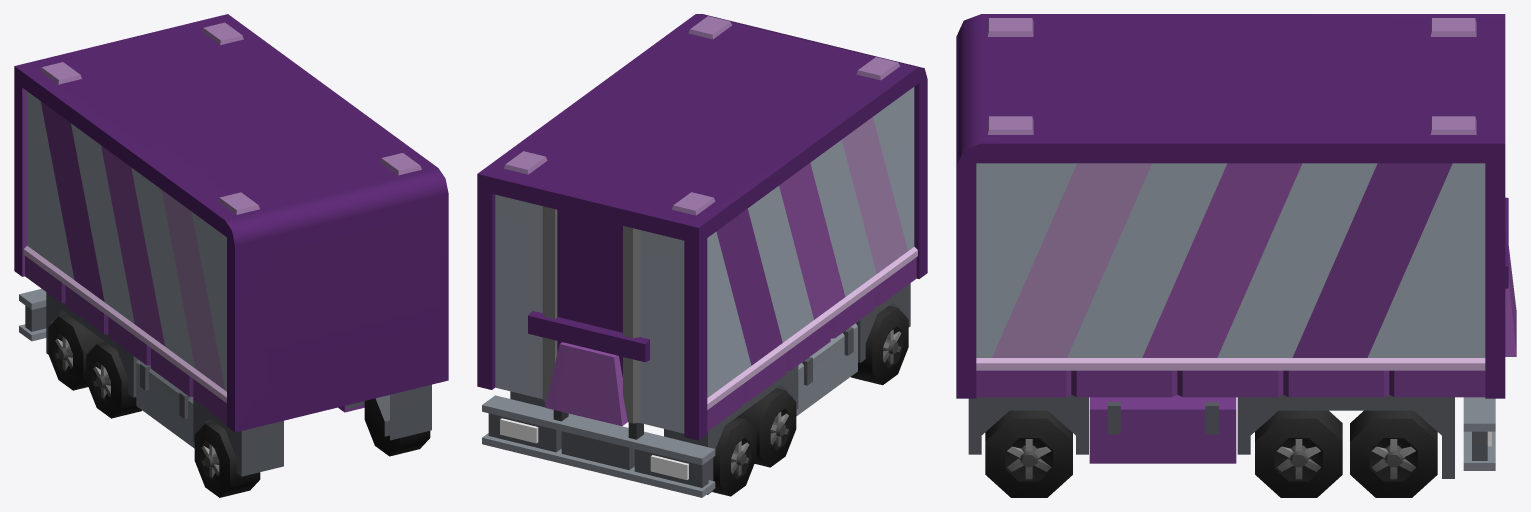
Rendered from cargo_04_E_2.fbx.
3 views of the same model, side by side, from view 1: azimuth 30°, elevation 25°; view 2: azimuth 150°, elevation 25°; view 3: azimuth 270°, elevation 25° (orthographic). The views are drawn at different scales.
Visible parts, largest first — view 1: cargo_04_E_2; view 2: cargo_04_E_2; view 3: cargo_04_E_2.
Part boxes in pixels (x1,y1,x2,y2): cargo_04_E_2: (14,14,448,497); cargo_04_E_2: (477,14,927,497); cargo_04_E_2: (956,14,1516,497).
Bounding box in the file's own units: 1335 × 1745 × 2438.
